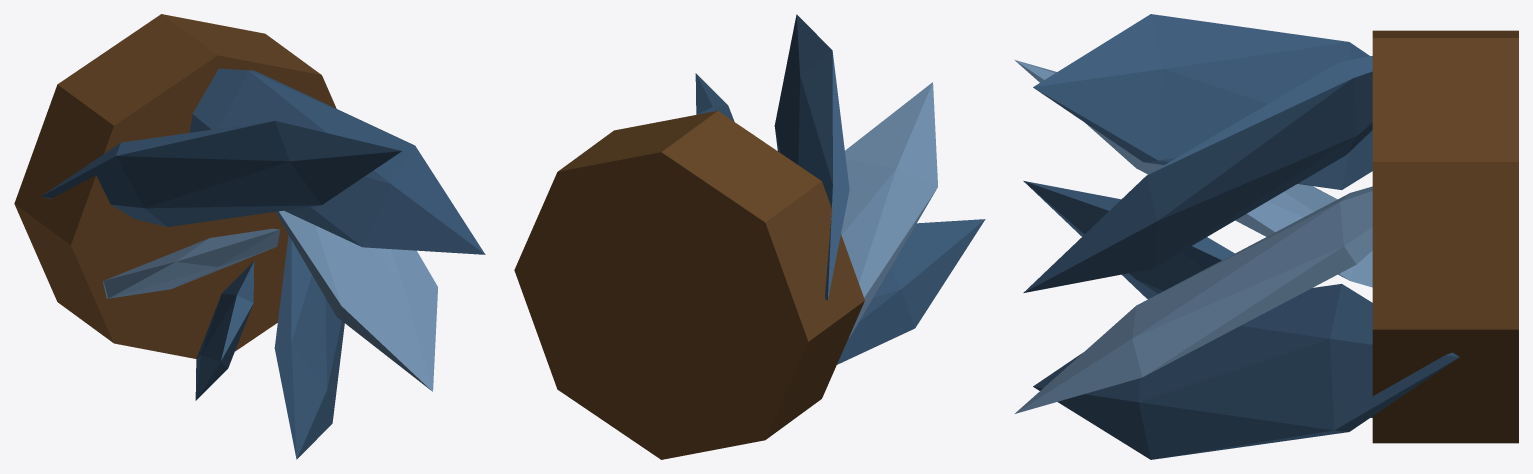
Rendered from 2_sprouting.obj.
The picture shows the model from 3 angles, left to right: view 1: azimuth 30°, elevation 25°; view 2: azimuth 150°, elevation 25°; view 3: azimuth 270°, elevation 25°; orthographic projection. The views are drawn at different scales.
Parts seen in each view (by area): view 1: irit_2_sprouting; view 2: irit_2_sprouting; view 3: irit_2_sprouting.
Part boxes in pixels (<box>): irit_2_sprouting: <box>14,14,485,459</box>; irit_2_sprouting: <box>514,14,985,459</box>; irit_2_sprouting: <box>1015,14,1518,459</box>.
Bounding box in the file's own units: 0.12 × 0.1235 × 0.138.
